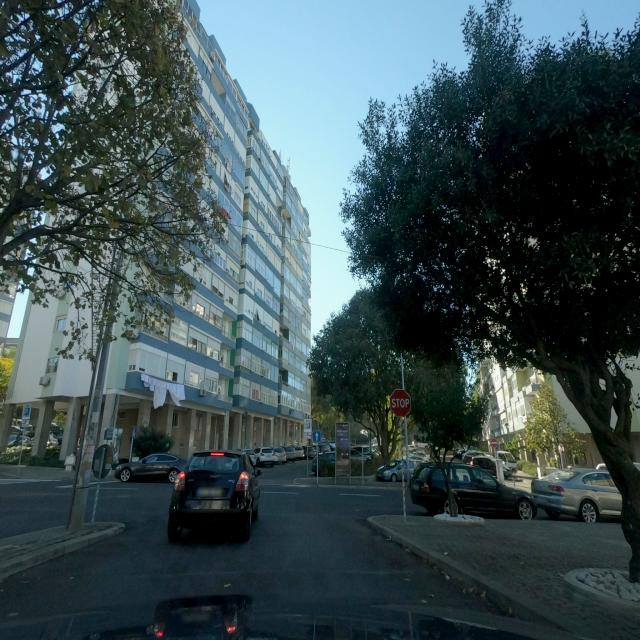car: (167, 448, 261, 542), (410, 460, 536, 521), (530, 464, 626, 524), (113, 452, 189, 483), (376, 458, 424, 482), (469, 454, 506, 481), (256, 446, 286, 466), (496, 450, 518, 476), (349, 444, 375, 462), (284, 446, 301, 462), (292, 444, 306, 460)
